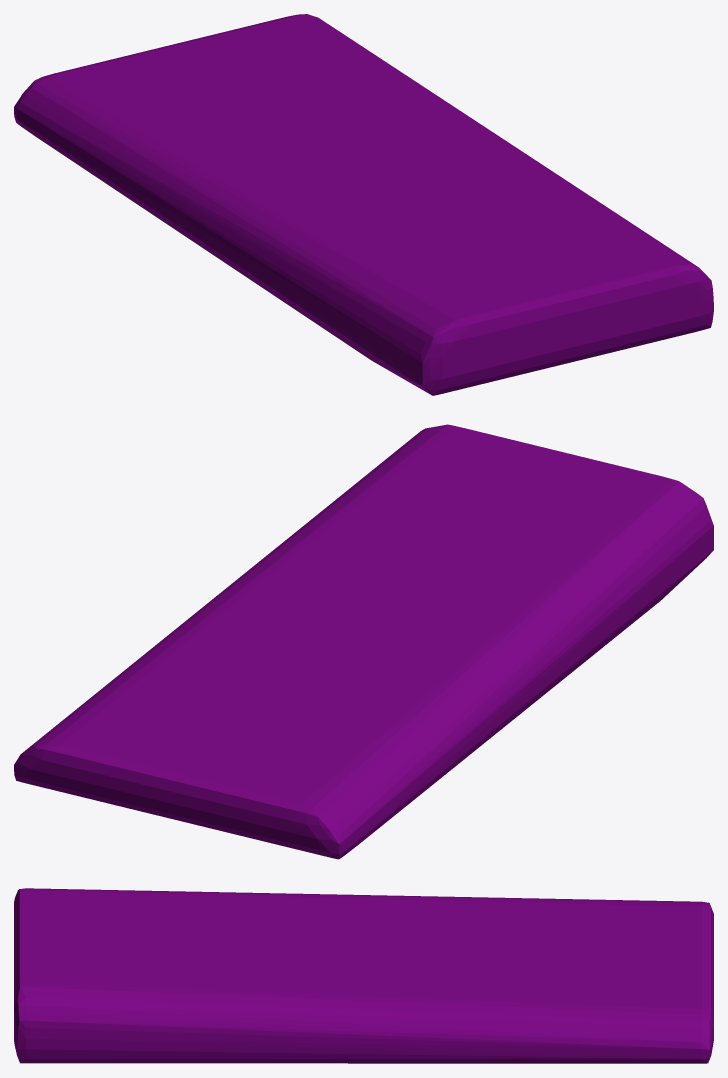
File: left_knee_link_part_11.obj
The picture shows the model from 3 angles, top to bottom: view 1: azimuth 30°, elevation 25°; view 2: azimuth 150°, elevation 25°; view 3: azimuth 270°, elevation 25°; orthographic projection. The views are drawn at different scales.
Bounding box in the file's own units: 0.0551 × 0.0117 × 0.1176.
